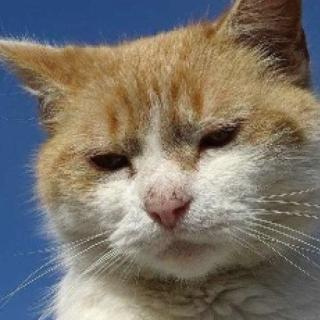cat: (0, 21, 320, 285)
nose: (136, 181, 196, 237)
